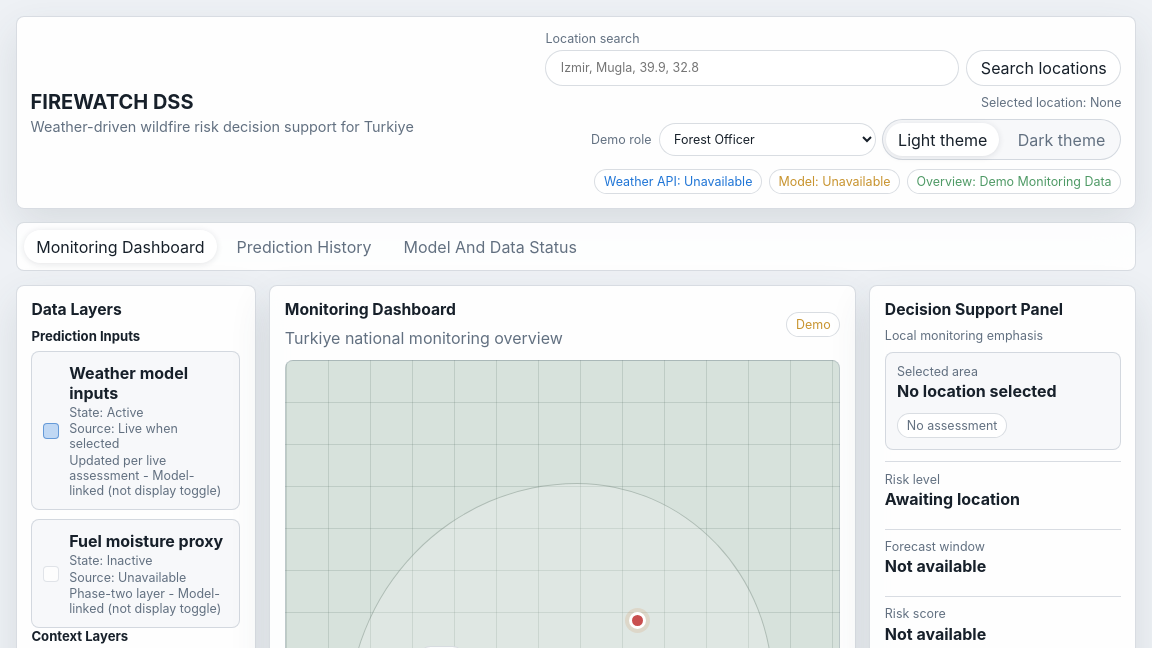
Test case: FIREWATCH dashboard shell › shows a clear no-result message for unresolved search text
The image size is (1152, 648).
In the search field labelled "Location search": (752, 68) [545, 50, 959, 86], type "UnknownPlace"
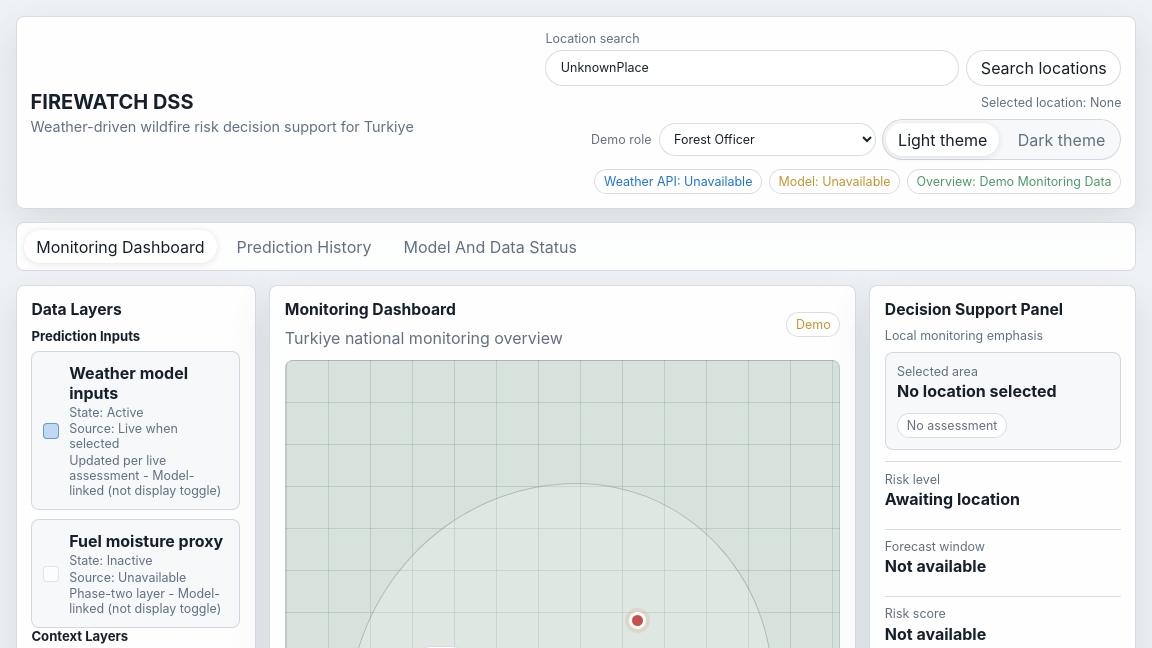
Click the button "Search locations": (1044, 68) [966, 50, 1121, 86]
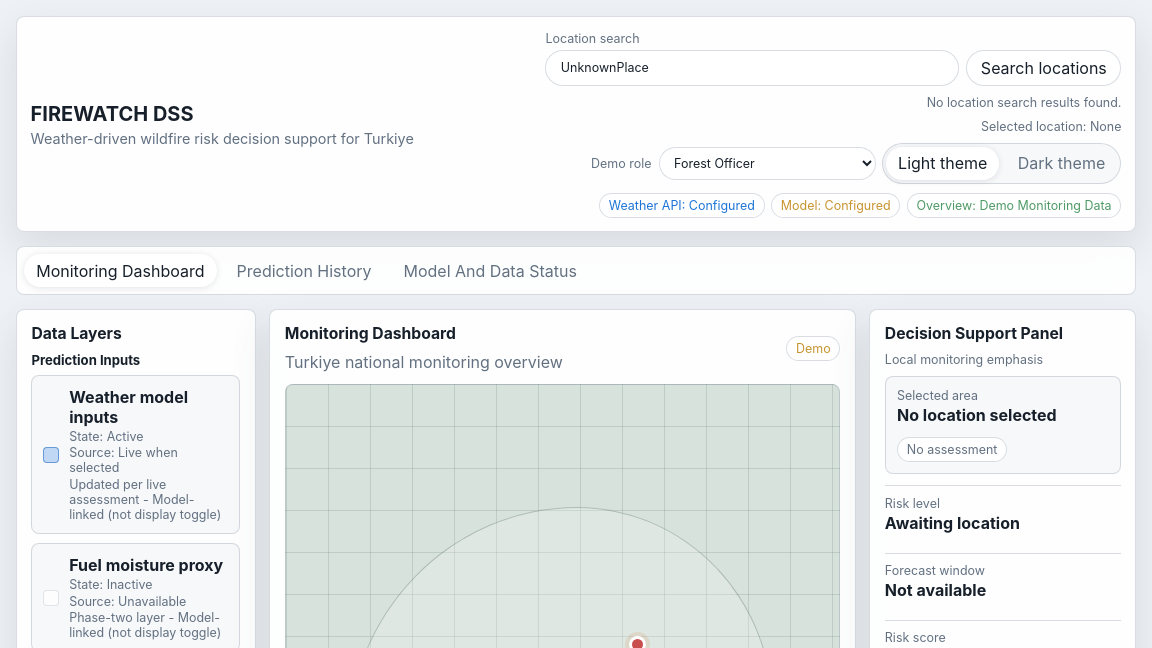
Expected: the text "Selected location: None" is shown, [981, 119, 1121, 134]
Expected: the text "No location search results found." is shown, [927, 95, 1121, 110]
